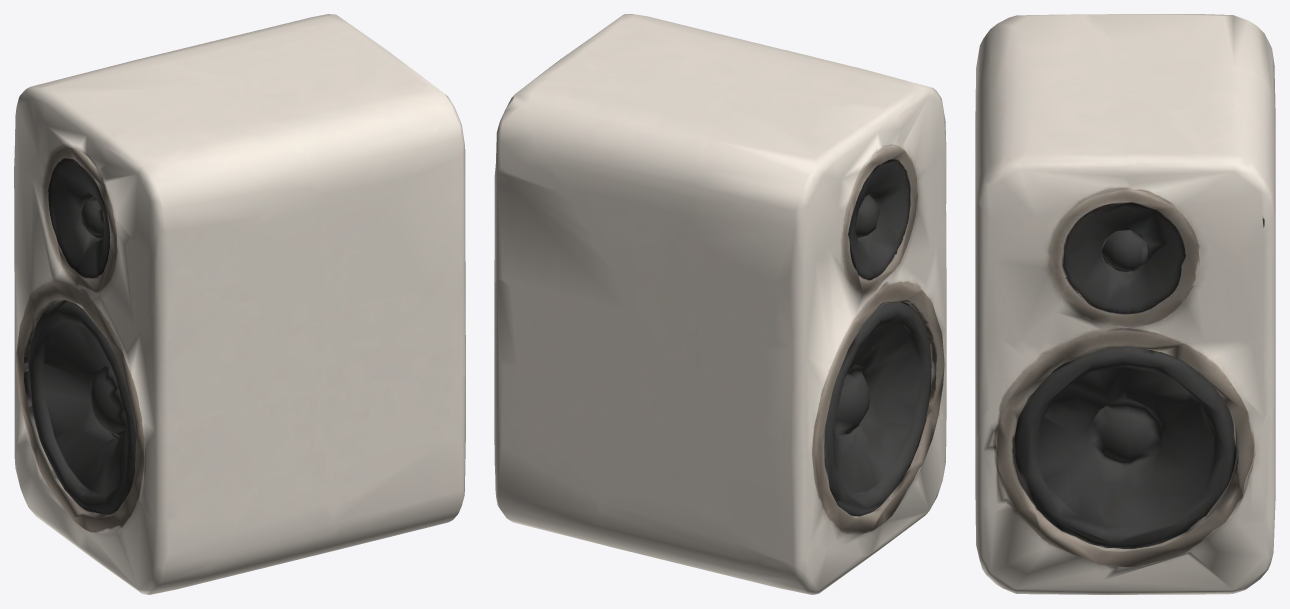
File: caixa-som.glb
3 renders of one model, left to right at view 1: azimuth 30°, elevation 25°; view 2: azimuth 150°, elevation 25°; view 3: azimuth 270°, elevation 25°, orthographic.
Visible parts, largest first — view 1: tripo_node_1913d4ce-2319-4956-9b38-d75f4f0cc2bb; view 2: tripo_node_1913d4ce-2319-4956-9b38-d75f4f0cc2bb; view 3: tripo_node_1913d4ce-2319-4956-9b38-d75f4f0cc2bb.
Boxes of the visible parts, <box> form: tripo_node_1913d4ce-2319-4956-9b38-d75f4f0cc2bb: <box>14,14,465,594</box>; tripo_node_1913d4ce-2319-4956-9b38-d75f4f0cc2bb: <box>494,14,946,594</box>; tripo_node_1913d4ce-2319-4956-9b38-d75f4f0cc2bb: <box>975,14,1275,594</box>.
Bounding box in the file's own units: 0.7753 × 1 × 0.6229.
Materials: 1 (1 with a texture image).
